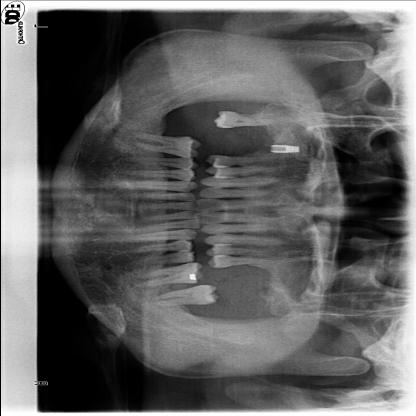Bicon: (266, 142, 304, 156)
